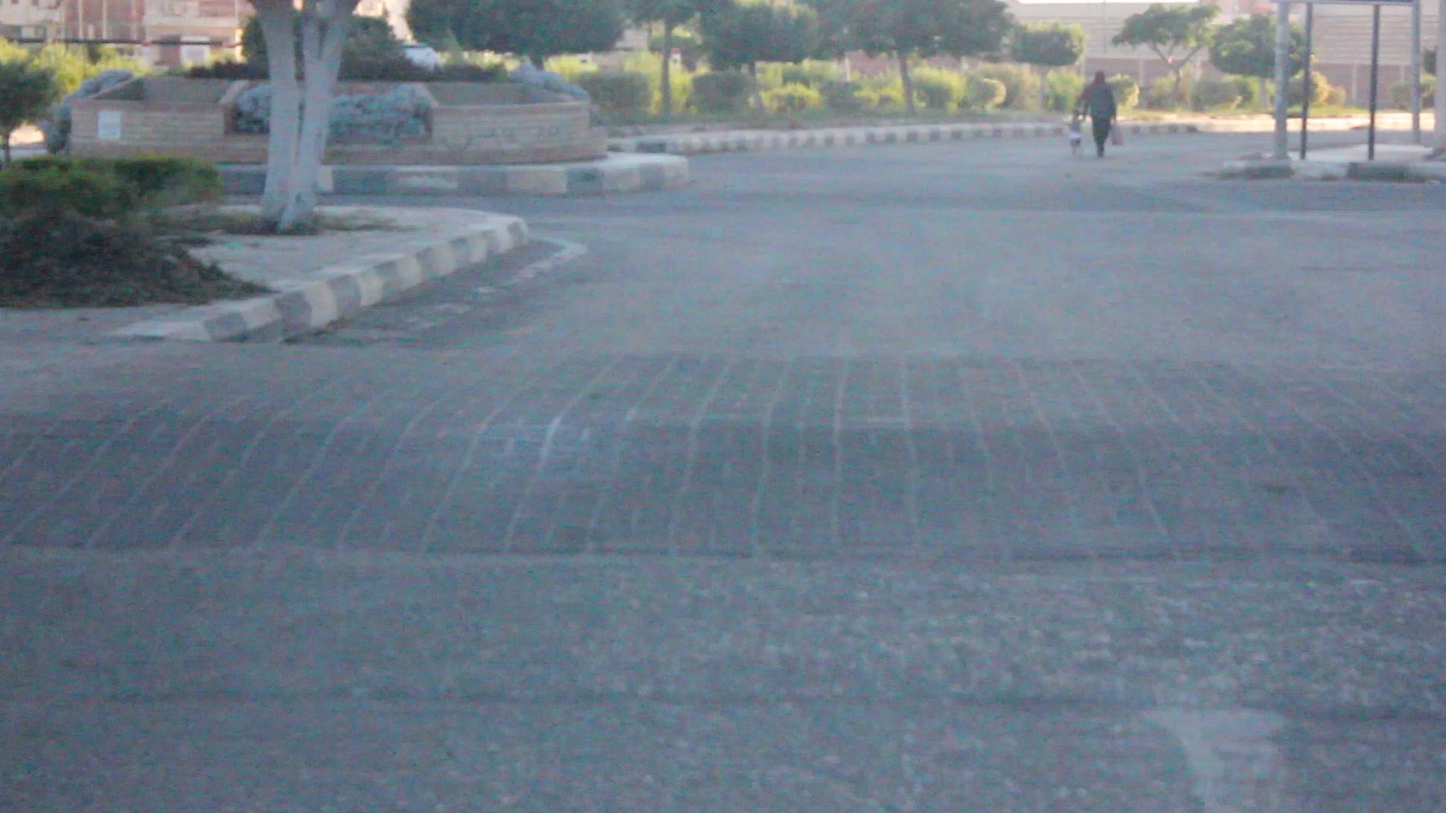Bump: (43, 350, 1446, 576)
